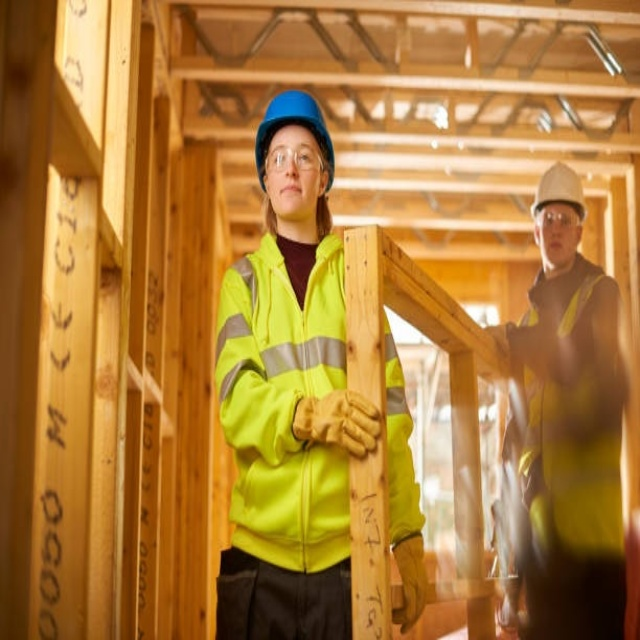Gafas: (264, 145, 325, 173), (537, 210, 578, 228)
Guantes: (293, 384, 388, 460), (387, 529, 430, 635)
Sin_mascara: (275, 179, 308, 210), (545, 234, 569, 259)
